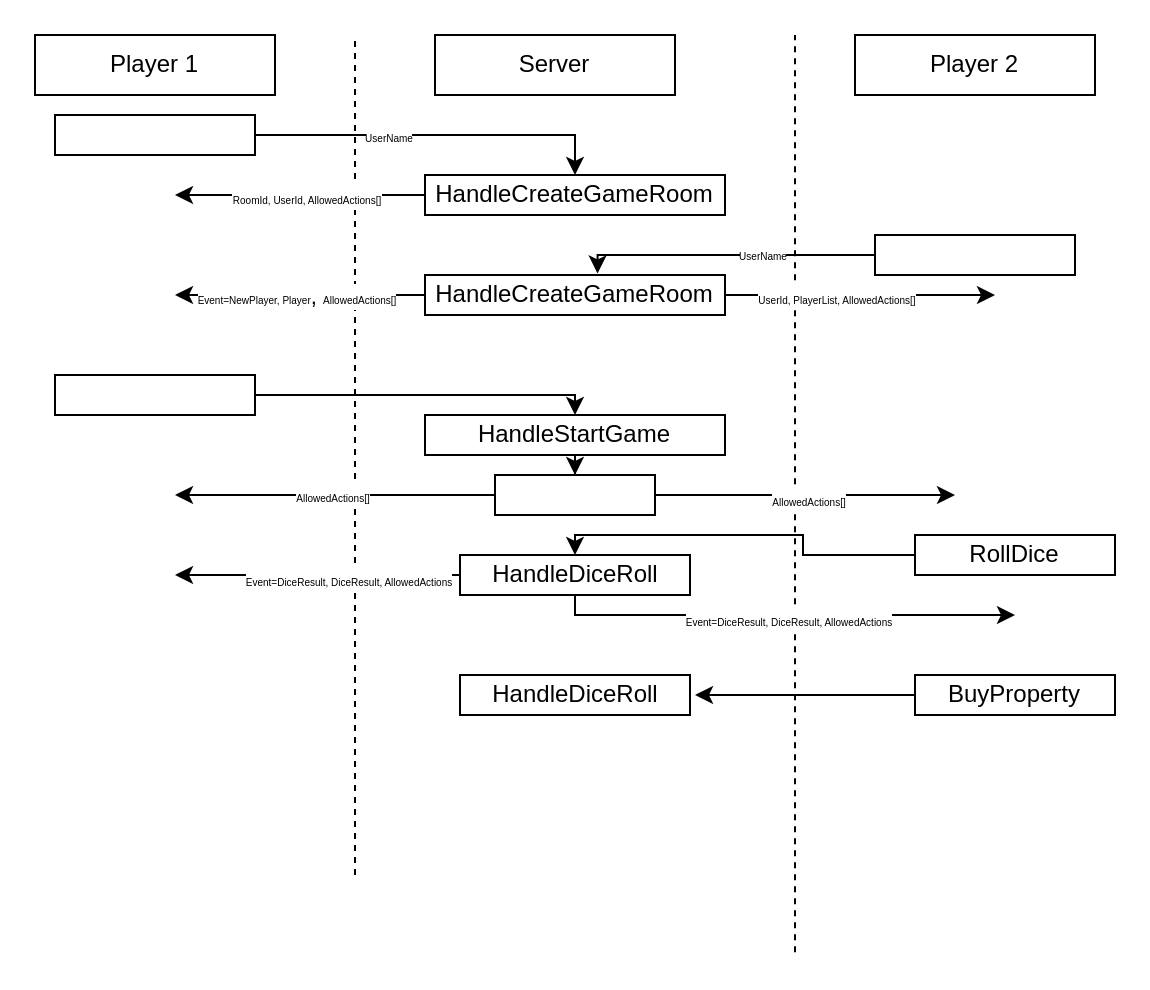
The diagram is 1150 pixels wide and 990 high, and some of its shapes have lost their labels. The centre of each missing label's shape, as x and y in pixels:
Choose a random player to start: [574,494]
CreateGameRoom: [154,134]
JoinGameRoom: [974,254]
StartGame: [154,394]
